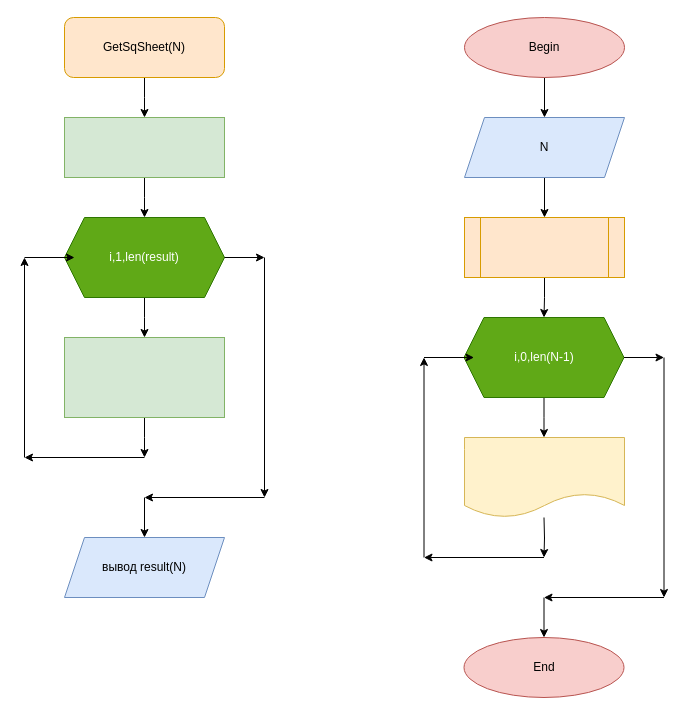
Image size: 690x715. Some labels were removed from this diagram. Each missing label, with the box of its shape:
result (N): (64, 116, 224, 178)
result[i-1] = i * i * i: (64, 336, 224, 418)
sheet = GetSqSheet: (464, 216, 624, 278)
sheet[i]: (464, 436, 624, 518)
